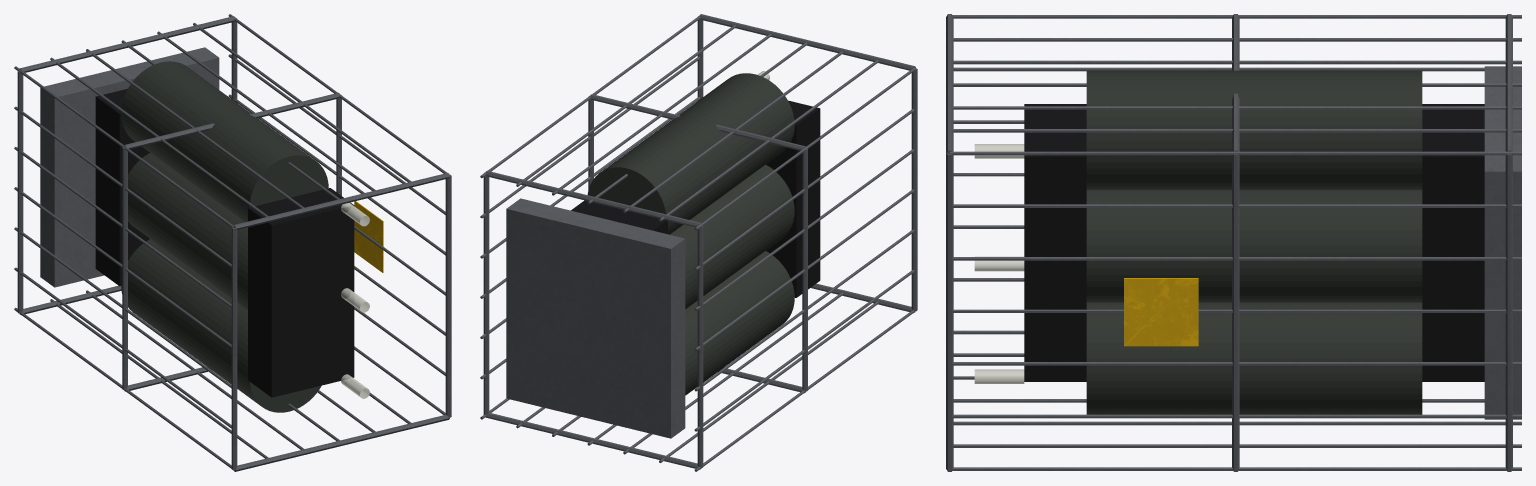
File: transformer.glb
The picture shows the model from 3 angles, left to right: view 1: azimuth 30°, elevation 25°; view 2: azimuth 150°, elevation 25°; view 3: azimuth 270°, elevation 25°; orthographic projection. The views are drawn at different scales.
Parts seen in each view (by area): view 1: transformer; view 2: transformer; view 3: transformer.
Part boxes in pixels (x1,y1,x2,y2): transformer: (14, 14, 451, 471); transformer: (480, 14, 917, 471); transformer: (946, 14, 1521, 471).
Size of the model in its own units: 1.33 by 1.48 by 2.32.
5 materials, 2 textured.
